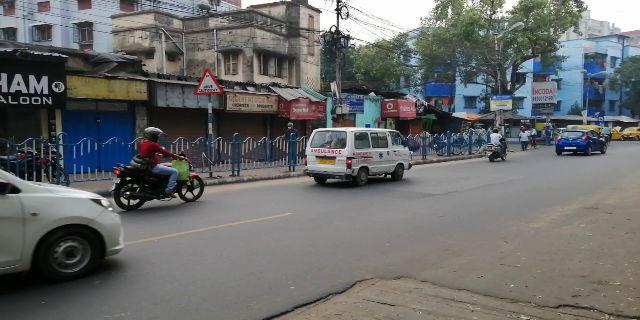Car: (1, 162, 132, 274), (557, 129, 611, 156)
Motorbike: (111, 123, 201, 206), (485, 124, 511, 164)
Van: (304, 129, 416, 189)
